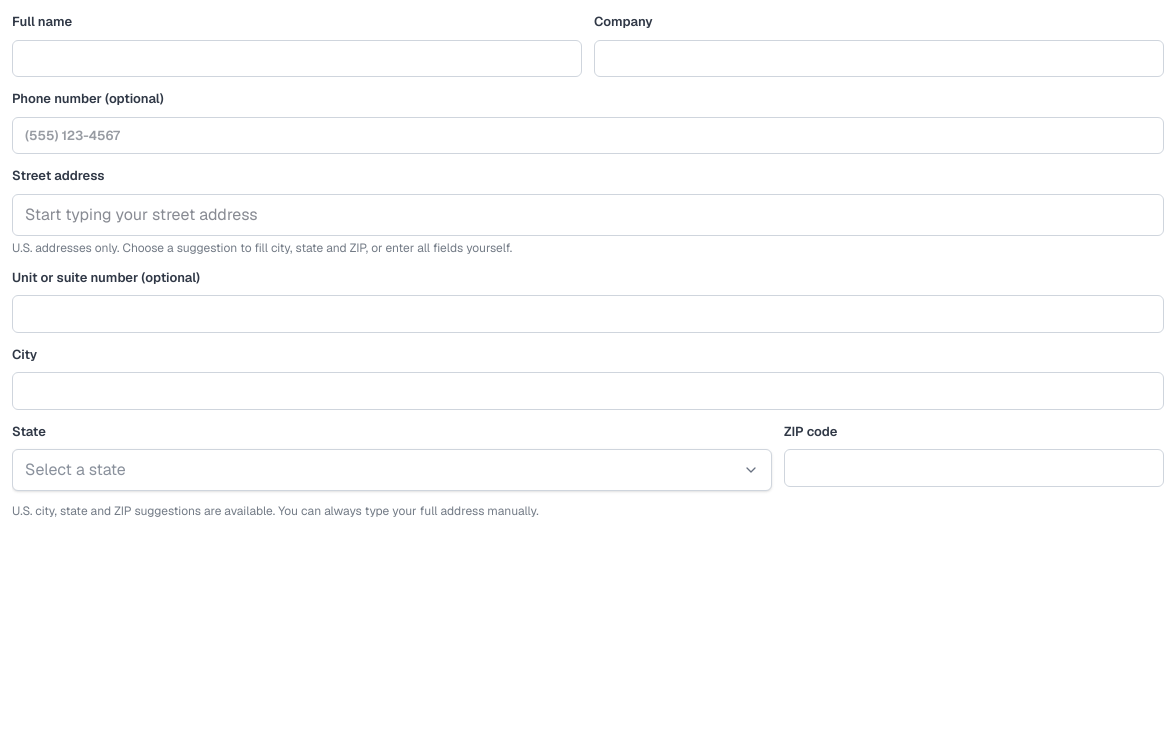
Test: address suggestion placement and selection › anchors ZIP suggestions to ZIP and dismisses them with Escape
The width and height of the screenshot is (1176, 732).
In the dropdown labelled "ZIP code": (974, 468) [784,449,1164,486], type "100"
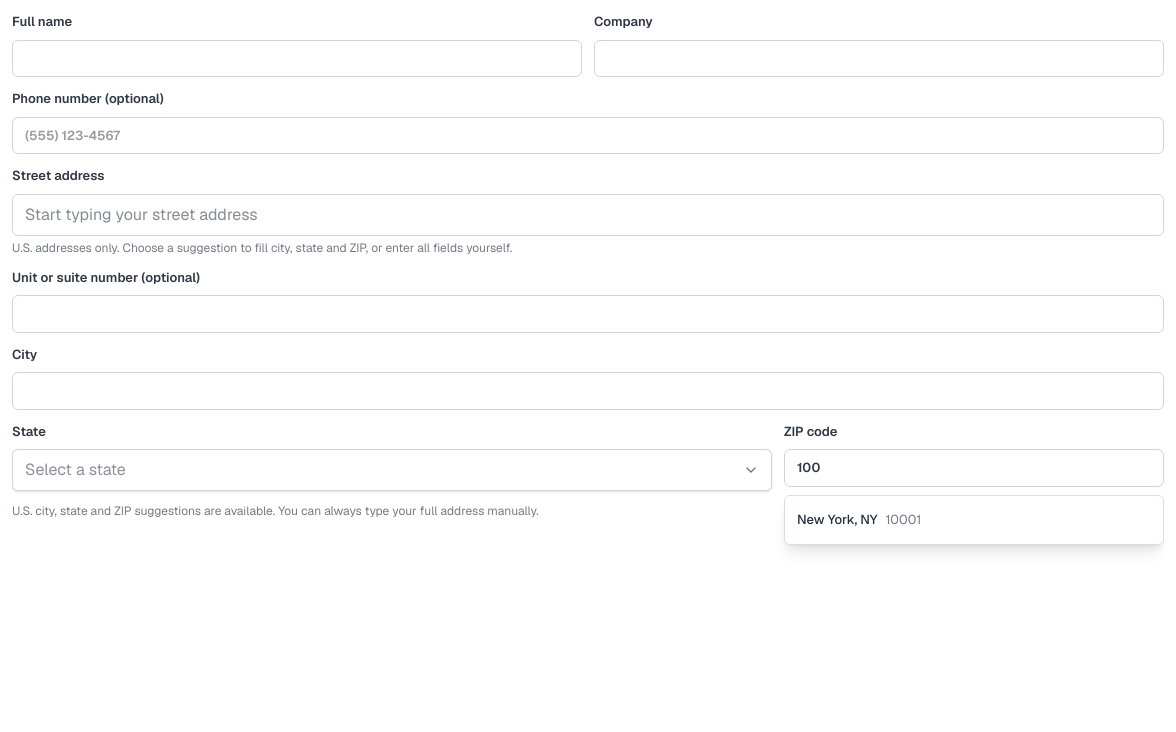
Press Escape in the dropdown labelled "ZIP code", box [784,449,1164,486]
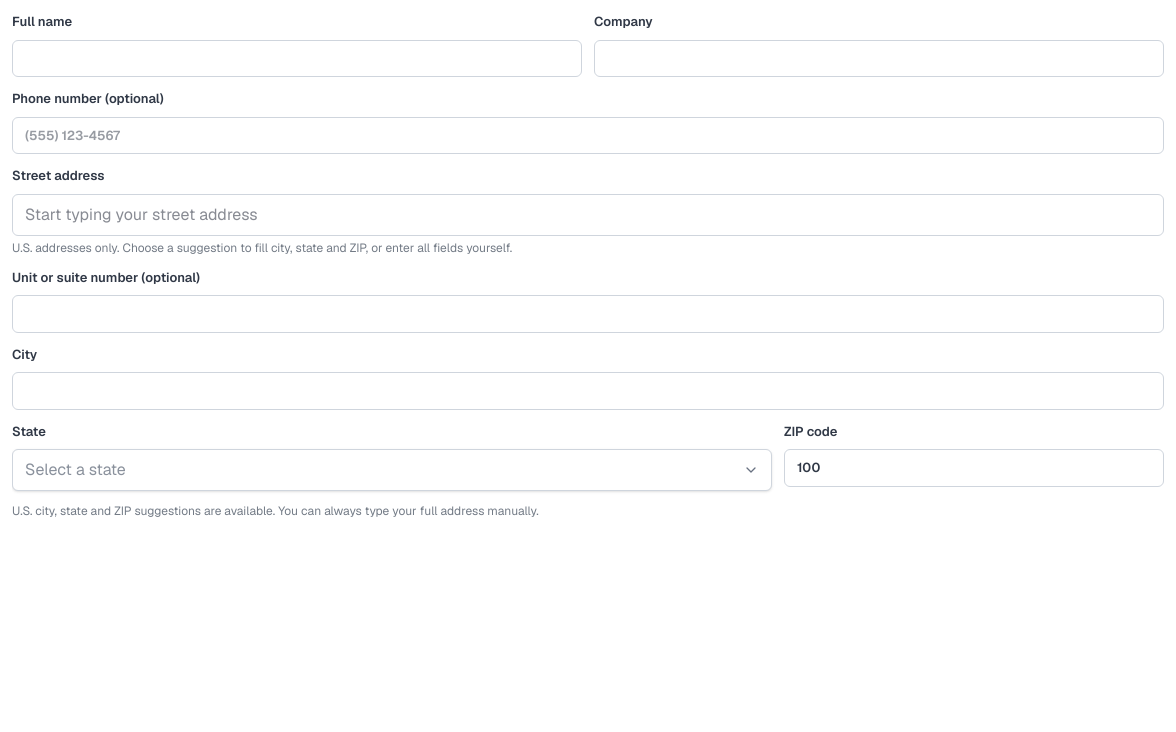
Check: the list is gone
